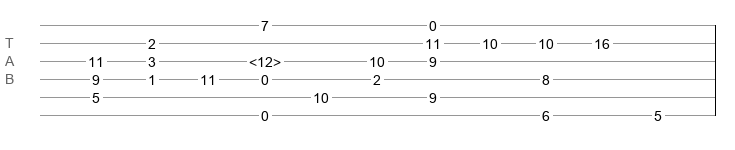0: (261, 108, 269, 118), (261, 72, 269, 82), (429, 18, 437, 28)
1: (148, 72, 156, 82)
10: (313, 90, 329, 100), (369, 54, 385, 64), (482, 36, 498, 46), (538, 36, 554, 46)
11: (88, 54, 104, 64), (200, 72, 216, 82), (425, 36, 441, 46)
16: (594, 36, 610, 46)
2: (148, 36, 156, 46), (373, 72, 381, 82)
3: (148, 54, 156, 64)
5: (92, 90, 100, 100), (654, 108, 662, 118)
6: (542, 108, 550, 118)
7: (261, 18, 269, 28)
8: (542, 72, 550, 82)
9: (92, 72, 100, 82), (429, 90, 437, 100), (429, 54, 437, 64)
harmonic: (249, 54, 281, 64)
